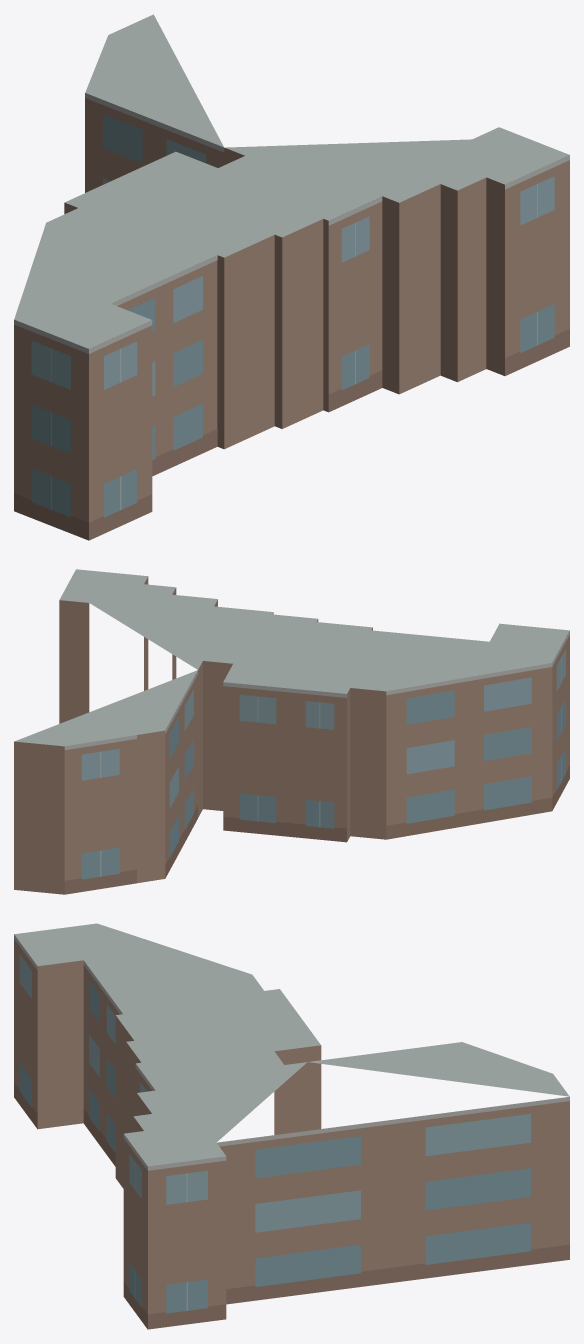
Rendered from survey-upis-32614121.glb.
3 renders of one model, top to bottom at view 1: azimuth 30°, elevation 25°; view 2: azimuth 150°, elevation 25°; view 3: azimuth 270°, elevation 25°, orthographic. The views are drawn at different scales.
Visible parts, largest first — view 1: survey-upis-32614121.tmp; view 2: survey-upis-32614121.tmp; view 3: survey-upis-32614121.tmp.
Part boxes in pixels (x1,y1,x2,y2): survey-upis-32614121.tmp: [14, 14, 569, 540]; survey-upis-32614121.tmp: [14, 569, 569, 894]; survey-upis-32614121.tmp: [14, 923, 569, 1329].
Bounding box in the file's own units: 29.27 × 9.15 × 28.28.
